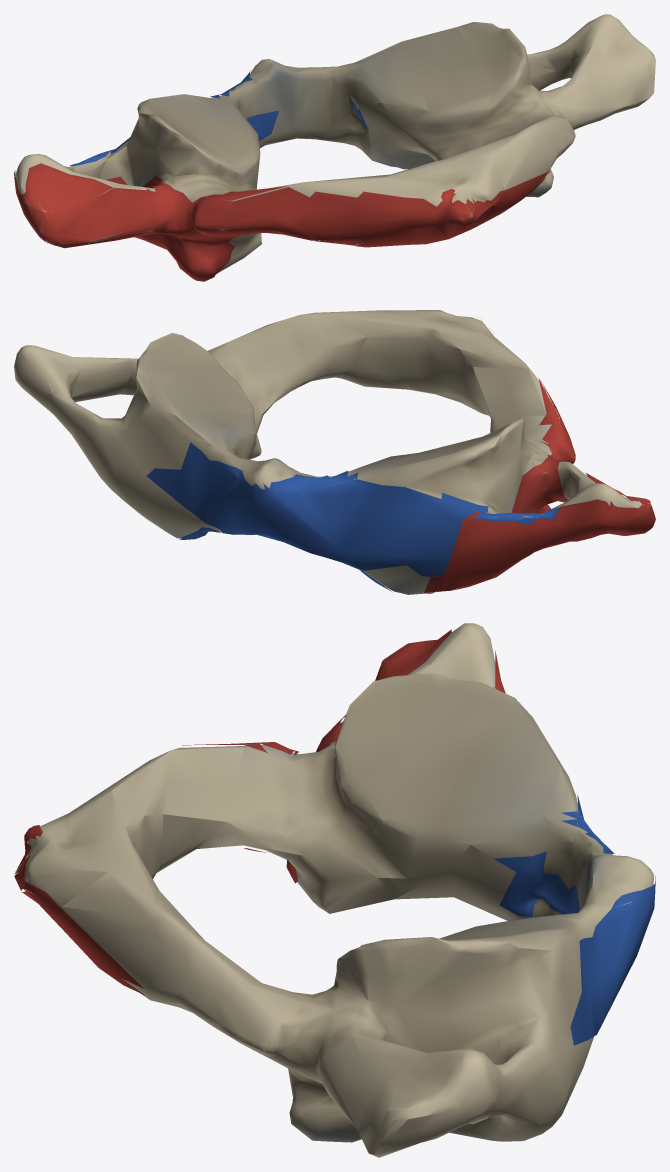
The model's file is atlas-c1.glb.
3 views of the same model, one above another, from view 1: azimuth 30°, elevation 25°; view 2: azimuth 150°, elevation 25°; view 3: azimuth 270°, elevation 25° (orthographic). The views are drawn at different scales.
Visible parts, largest first — view 1: FJ3176, origo__massa-lateralis-transversus__m-obliquus-capitis-super, origo__arcus-posterior-sulcus-arteriae__m-rectus-capitis-pos, insertio__arcus-anterior-fovea-dentis__m-longus-colli; view 2: FJ3176, insertio__arcus-anterior-fovea-dentis__m-longus-colli, origo__massa-lateralis-transversus__m-obliquus-capitis-super, atlas-c1__massa-lateralis-transversus; view 3: FJ3176, insertio__arcus-anterior-fovea-dentis__m-longus-colli, origo__arcus-posterior-sulcus-arteriae__m-rectus-capitis-pos, origo__massa-lateralis-transversus__m-obliquus-capitis-super, atlas-c1__arcus-anterior-fovea-dentis.
Boxes of the visible parts, left/top/right/bottom form: FJ3176: left=17, top=14, right=655, bottom=273; origo__massa-lateralis-transversus__m-obliquus-capitis-super: left=14, top=163, right=379, bottom=281; origo__arcus-posterior-sulcus-arteriae__m-rectus-capitis-pos: left=242, top=171, right=549, bottom=247; insertio__arcus-anterior-fovea-dentis__m-longus-colli: left=70, top=70, right=368, bottom=166; FJ3176: left=14, top=310, right=640, bottom=594; insertio__arcus-anterior-fovea-dentis__m-longus-colli: left=146, top=442, right=559, bottom=591; origo__massa-lateralis-transversus__m-obliquus-capitis-super: left=424, top=378, right=655, bottom=593; atlas-c1__massa-lateralis-transversus: left=424, top=379, right=649, bottom=590; FJ3176: left=27, top=623, right=653, bottom=1157; insertio__arcus-anterior-fovea-dentis__m-longus-colli: left=493, top=688, right=655, bottom=1045; origo__arcus-posterior-sulcus-arteriae__m-rectus-capitis-pos: left=14, top=825, right=267, bottom=995; origo__massa-lateralis-transversus__m-obliquus-capitis-super: left=182, top=629, right=505, bottom=883; atlas-c1__arcus-anterior-fovea-dentis: left=494, top=795, right=653, bottom=1045.
Bounding box in the file's own units: 81.78 × 19.22 × 47.42.
